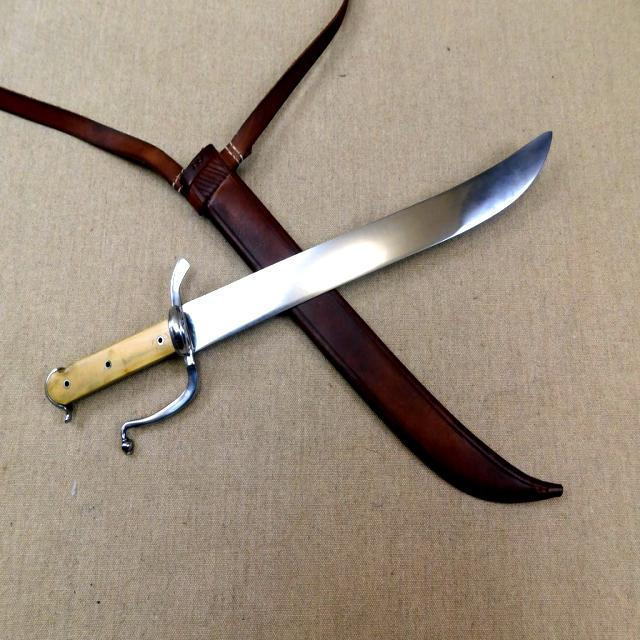short sword: (46, 126, 562, 457)
